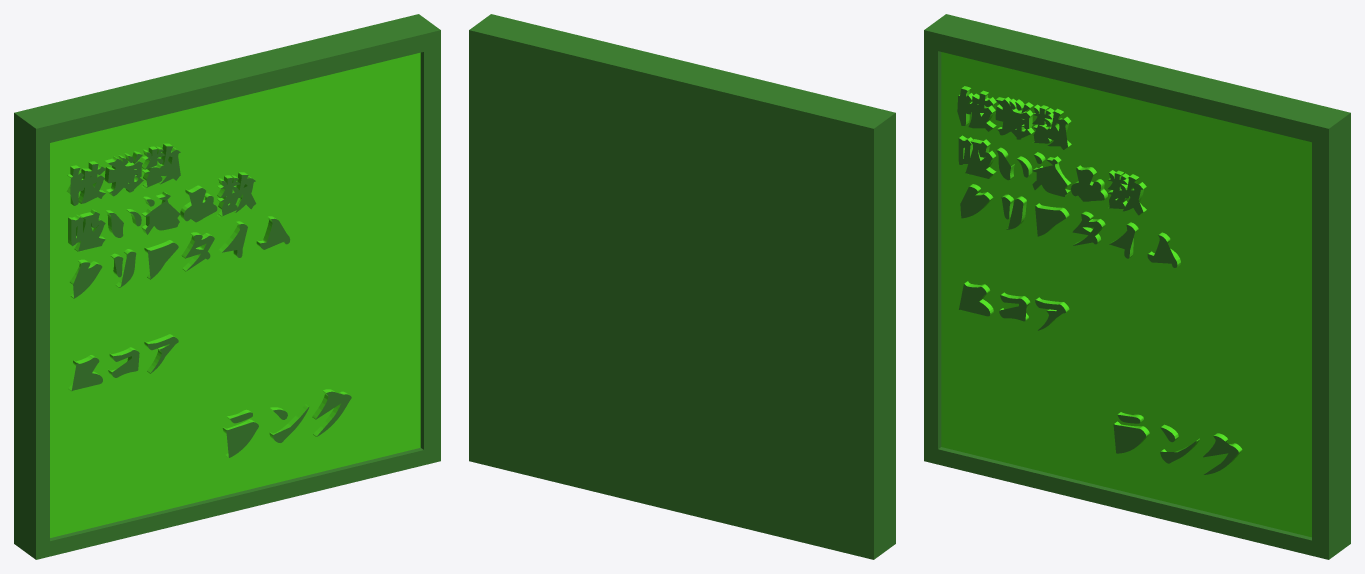
File: Result.fbx
3 views of the same model, side by side, from view 1: azimuth 30°, elevation 25°; view 2: azimuth 150°, elevation 25°; view 3: azimuth 330°, elevation 25° (orthographic).
Visible parts, largest first — view 1: 立方体.002; view 2: 立方体.002; view 3: 立方体.002.
Part boxes in pixels (box(x1,y1,x2,y2)): 立方体.002: box(14, 14, 440, 559); 立方体.002: box(469, 14, 895, 559); 立方体.002: box(924, 14, 1350, 559).
Size of the model in its own units: 518 by 527 by 49.57.
